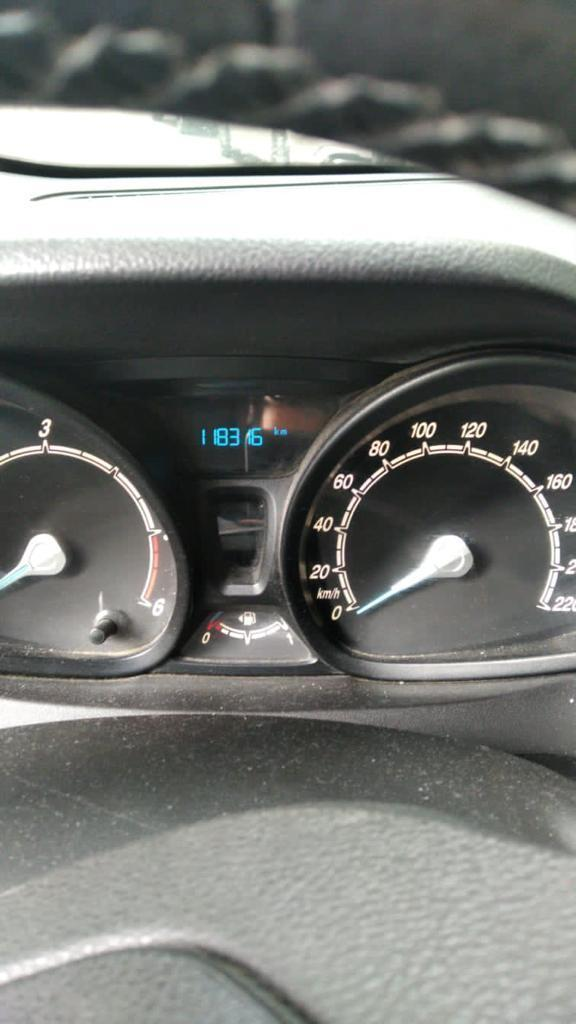1: (200, 427, 206, 445), (246, 429, 251, 446), (212, 428, 217, 445)
3: (228, 427, 240, 446)
6: (251, 427, 263, 446)
8: (216, 427, 228, 446)
X: (274, 426, 280, 436), (279, 429, 288, 435)
odometer: (137, 377, 322, 490)
